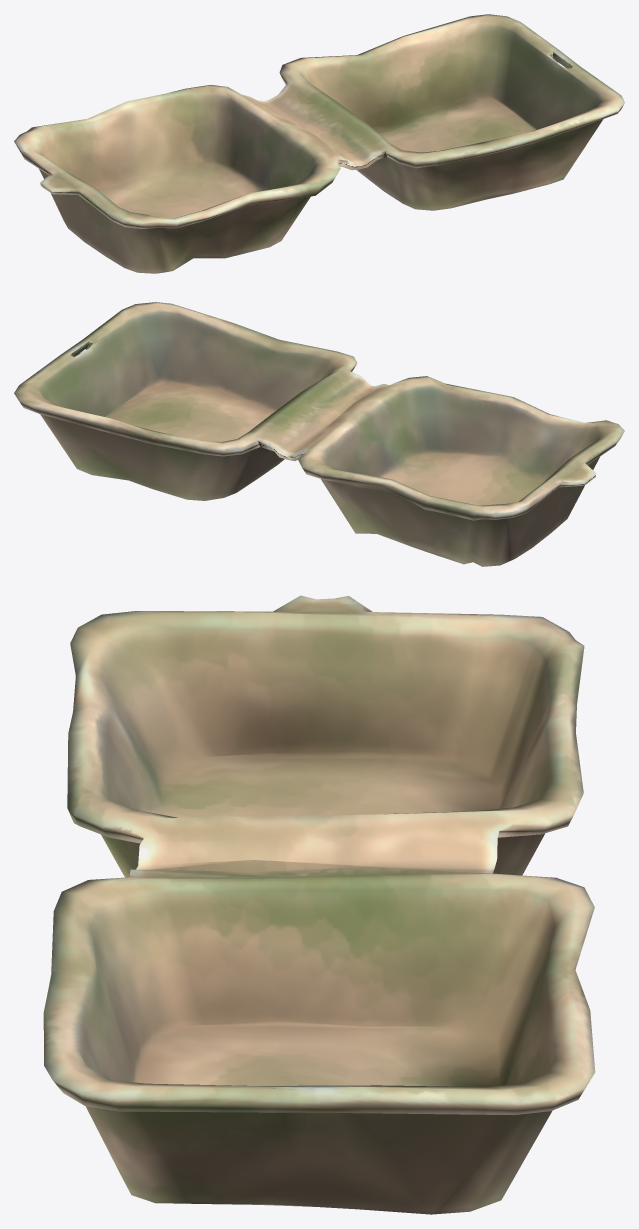
3 renders of one model, top to bottom at view 1: azimuth 30°, elevation 25°; view 2: azimuth 150°, elevation 25°; view 3: azimuth 270°, elevation 25°, orthographic. The views are drawn at different scales.
Visible parts, largest first — view 1: Box_LP; view 2: Box_LP; view 3: Box_LP.
Boxes of the visible parts, left/top/right/bottom form: Box_LP: left=14, top=14, right=624, bottom=273; Box_LP: left=14, top=302, right=624, bottom=566; Box_LP: left=43, top=595, right=595, bottom=1214.
Size of the model in its own units: 0.0737 by 0.0111 by 0.0337.
1 material, 1 textured.
